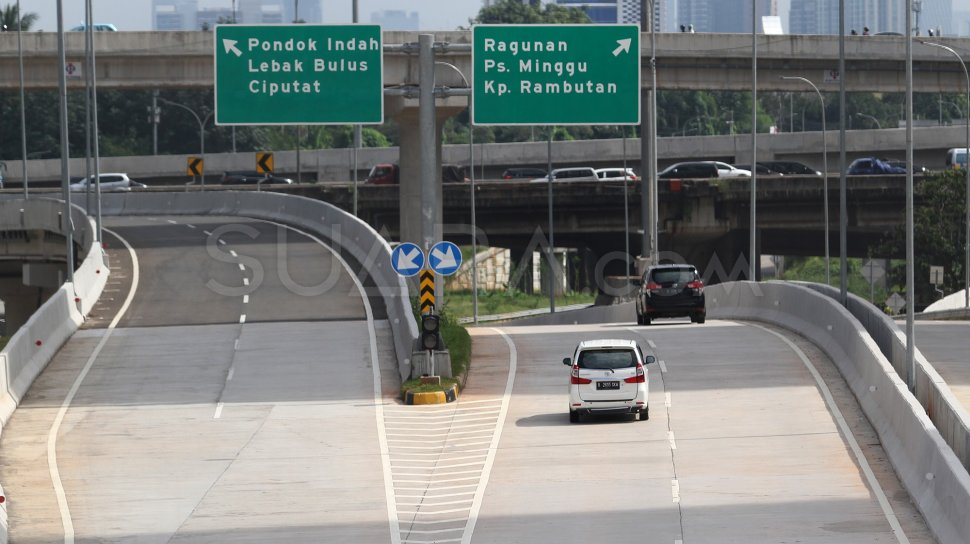car: (570, 341, 647, 423), (636, 261, 705, 326)
